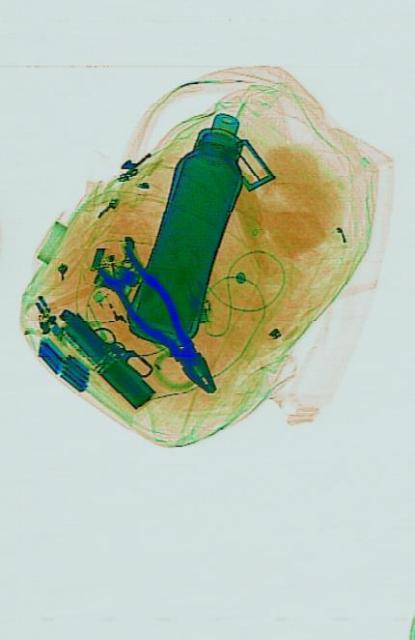Pliers: (93, 229, 226, 411)
